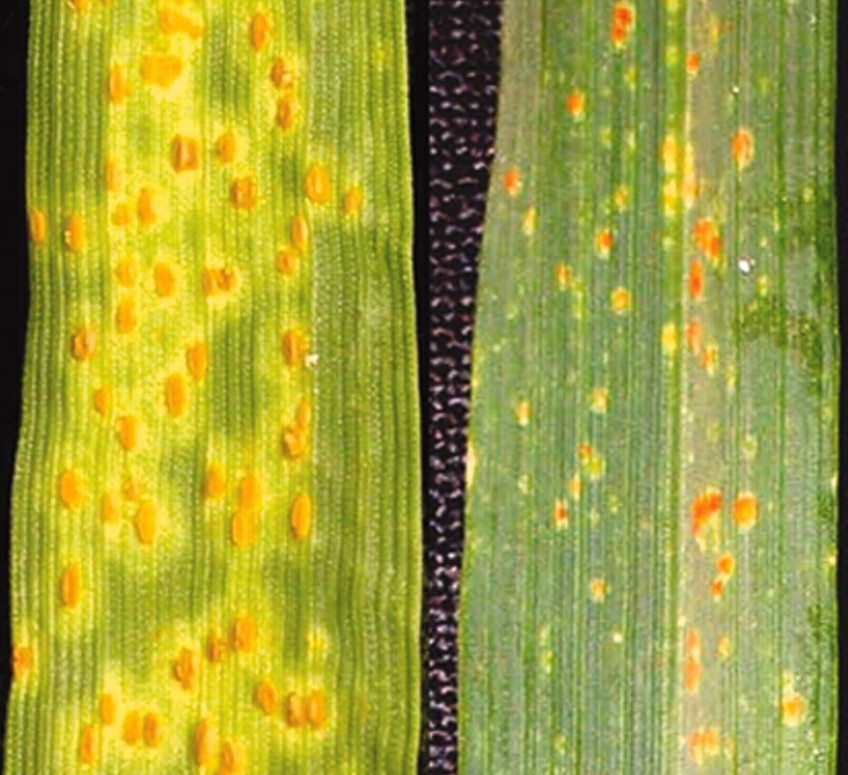Leaf Rust: (33, 49, 373, 775)
